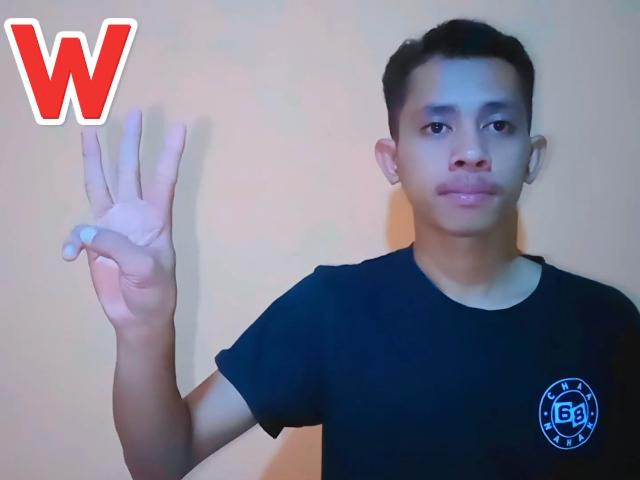W: (56, 106, 192, 330)
